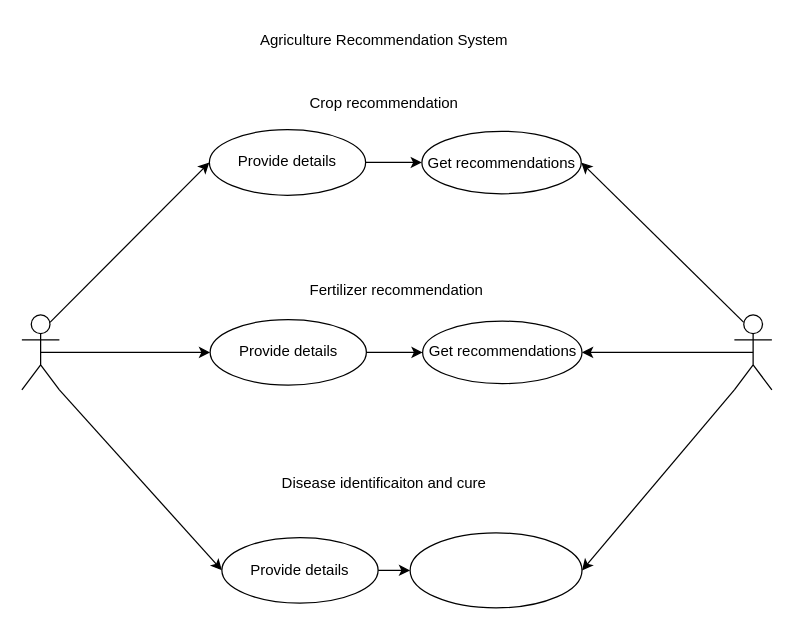
Some shapes in this 800 by 630 pixel diagram are drawn without their labels. The centre of each missing label's shape, as x and y in pixels:
Get disease identified and solutions to cure it: [495,570]
System: [752,352]
User: [40,352]
